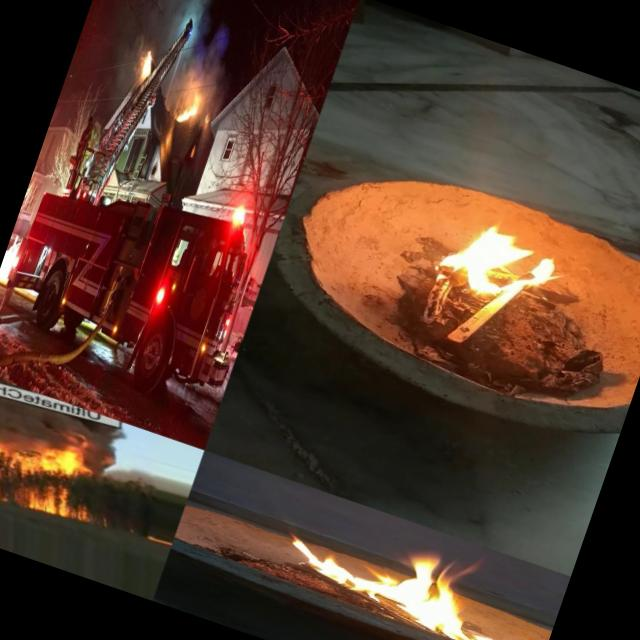fire: (266, 494, 531, 640), (419, 180, 578, 338), (0, 408, 108, 525), (170, 84, 202, 128), (133, 37, 160, 83), (198, 108, 214, 134)
smoke: (181, 17, 248, 96), (123, 0, 226, 45), (86, 421, 130, 459)
